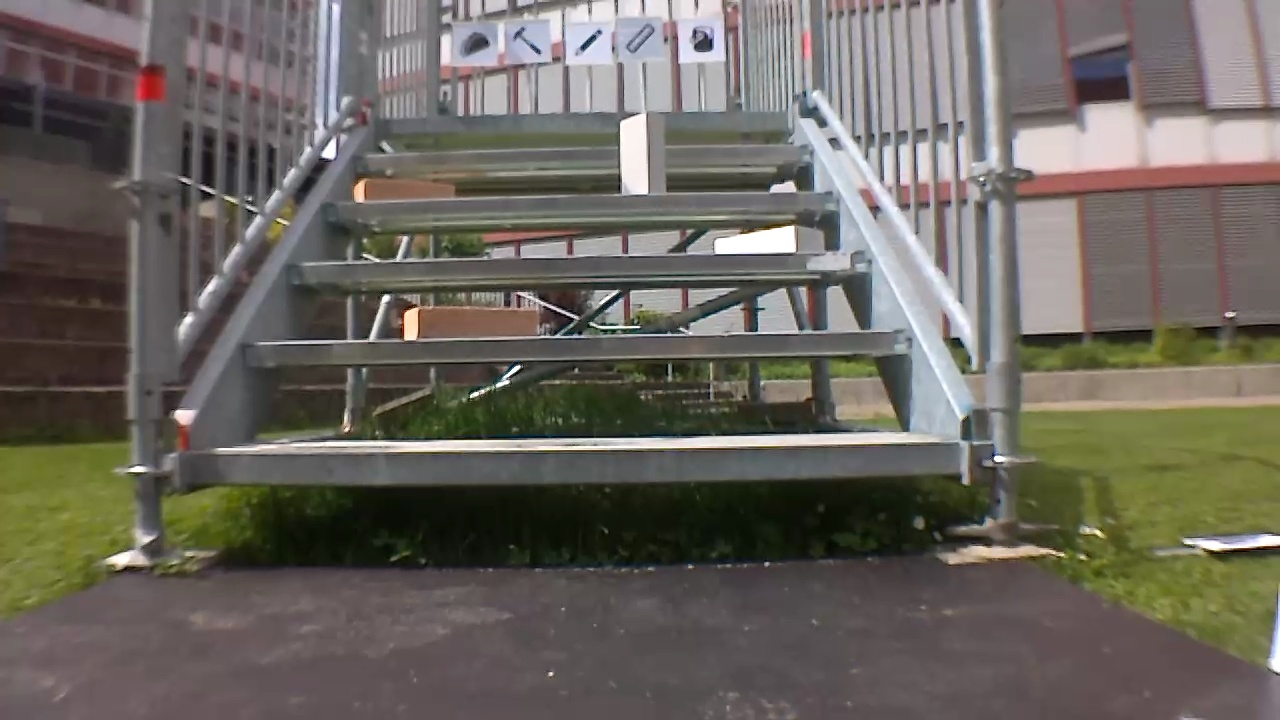brick: (403, 306, 538, 338), (619, 113, 665, 194), (716, 224, 823, 252), (353, 179, 452, 199)
bucket: (688, 21, 719, 55)
edge: (190, 441, 954, 485), (242, 328, 907, 357), (289, 250, 871, 277), (323, 191, 838, 215), (354, 143, 809, 166), (379, 113, 792, 134)
hammer: (508, 21, 545, 58)
pencil: (570, 24, 605, 60)
ruler: (619, 21, 658, 57)
stairs: (113, 1, 1045, 571)
steps: (175, 106, 965, 506)
taco: (452, 25, 494, 60)
